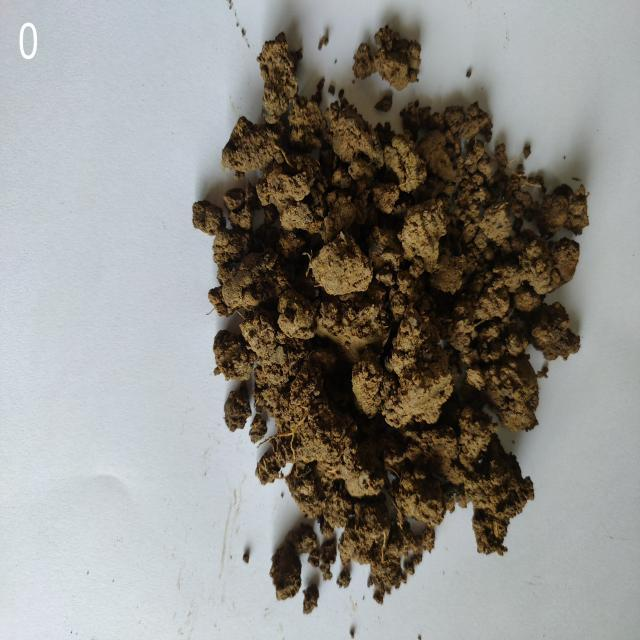soil: (284, 160, 478, 477)
